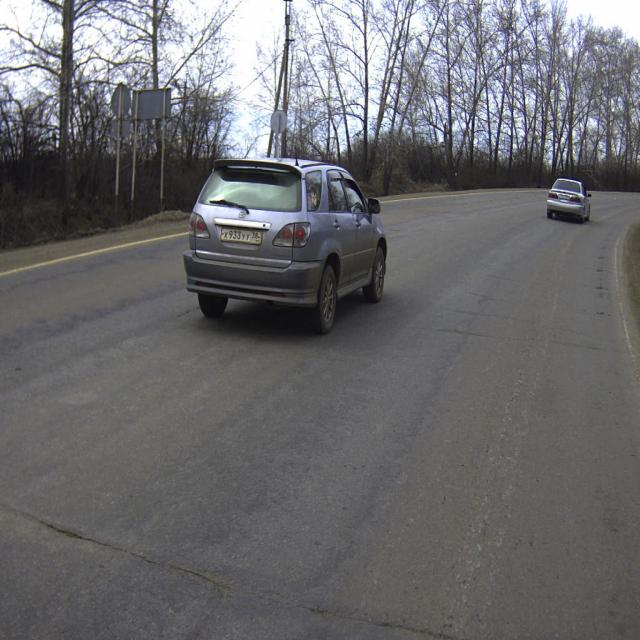road: (0, 191, 640, 639)
